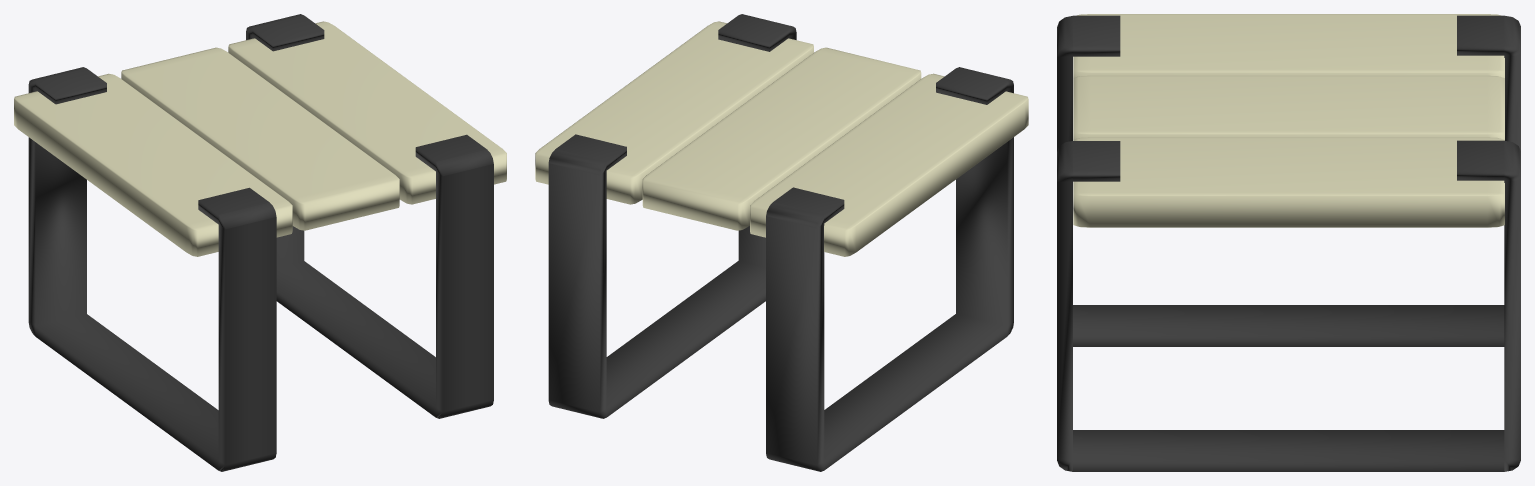
Rendered from MesaNormals.fbx.
3 views of the same model, side by side, from view 1: azimuth 30°, elevation 25°; view 2: azimuth 150°, elevation 25°; view 3: azimuth 270°, elevation 25° (orthographic). The views are drawn at different scales.
Parts seen in each view (by area): view 1: Cube.006; view 2: Cube.006; view 3: Cube.006.
Boxes of the visible parts, bbox=[...] form: Cube.006: bbox=[14, 14, 506, 471]; Cube.006: bbox=[535, 14, 1028, 471]; Cube.006: bbox=[1057, 14, 1520, 471].
Bounding box in the file's own units: 200 × 154 × 215.
